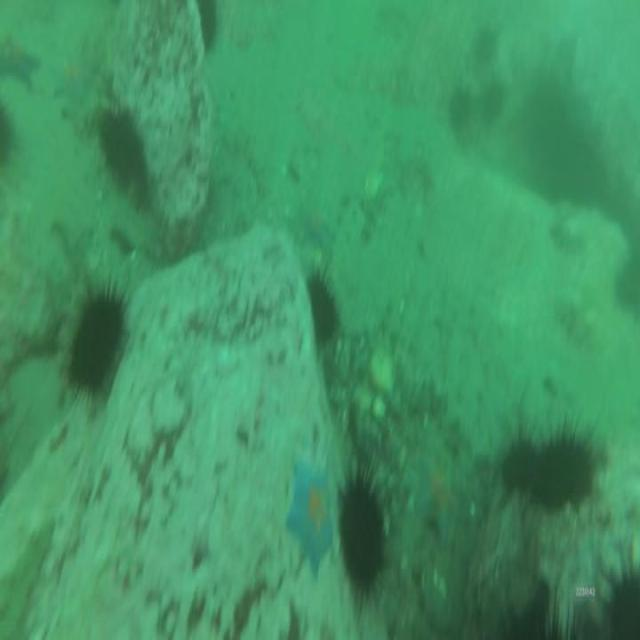echinus: (59, 275, 127, 406), (335, 455, 389, 605), (529, 416, 593, 512), (512, 581, 597, 640), (94, 103, 148, 191), (594, 550, 640, 640), (304, 266, 343, 352), (498, 430, 540, 502), (611, 254, 640, 325), (468, 22, 502, 76), (446, 79, 476, 133), (479, 71, 508, 125), (196, 0, 222, 60), (0, 103, 20, 177)
starfish: (286, 451, 338, 578), (410, 449, 460, 537), (43, 46, 97, 109), (0, 30, 44, 93), (286, 202, 331, 250)
